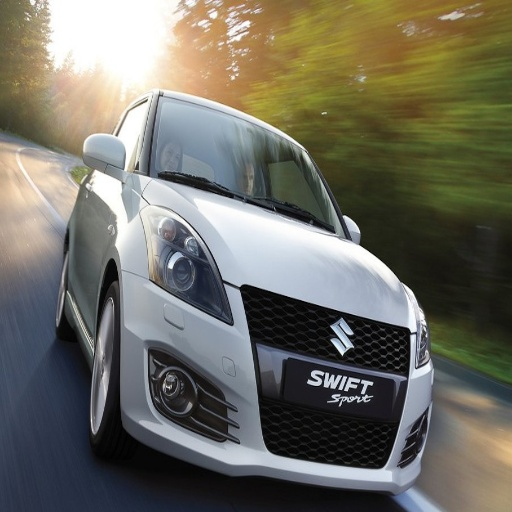front_bumper: (126, 234, 430, 481)
front_glass: (163, 102, 258, 183)
front_right_door: (71, 263, 94, 327)
front_right_light: (154, 213, 232, 322)
hood: (227, 226, 415, 328)
